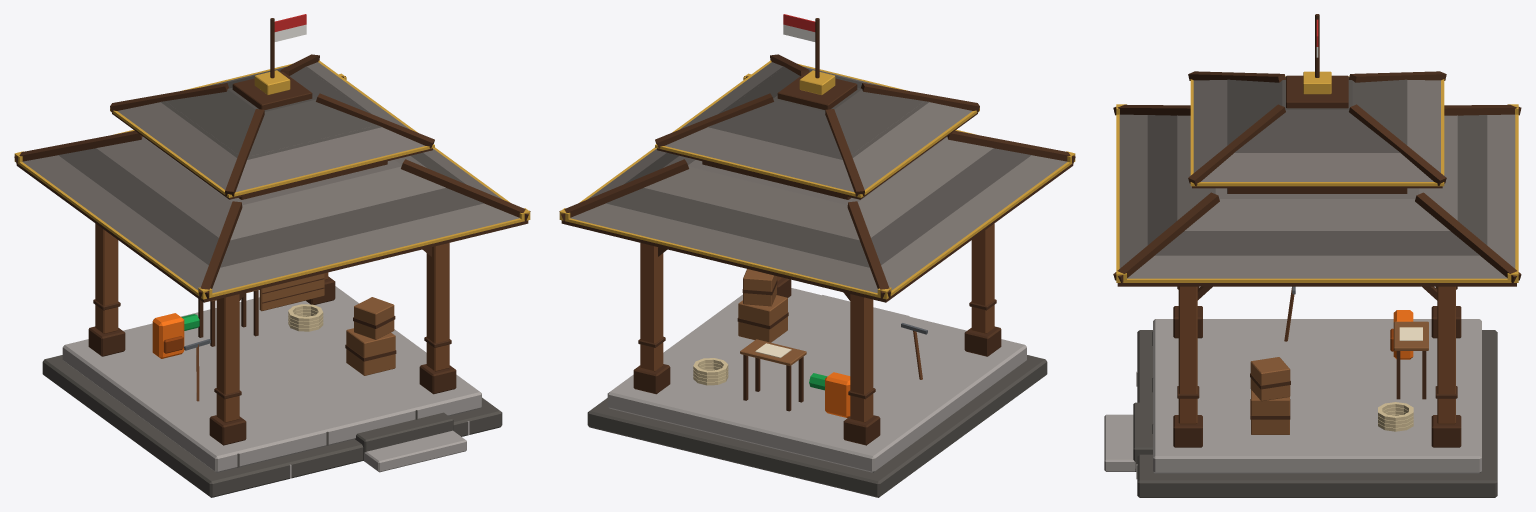
Rendered from pos_pendaki_v001.glb.
3 views of the same model, side by side, from view 1: azimuth 30°, elevation 25°; view 2: azimuth 150°, elevation 25°; view 3: azimuth 270°, elevation 25° (orthographic). The views are drawn at different scales.
Parts seen in each view (by area): view 1: Pos_Pendaki, Papan_Nama; view 2: Pos_Pendaki; view 3: Pos_Pendaki.
Boxes of the visible parts, x1,y1,x2,y2 form: Pos_Pendaki: (14, 14, 530, 497); Papan_Nama: (259, 273, 324, 311); Pos_Pendaki: (559, 14, 1075, 497); Pos_Pendaki: (1104, 14, 1521, 497).
Bounding box in the file's own units: 5.21 × 5.75 × 5.33.
